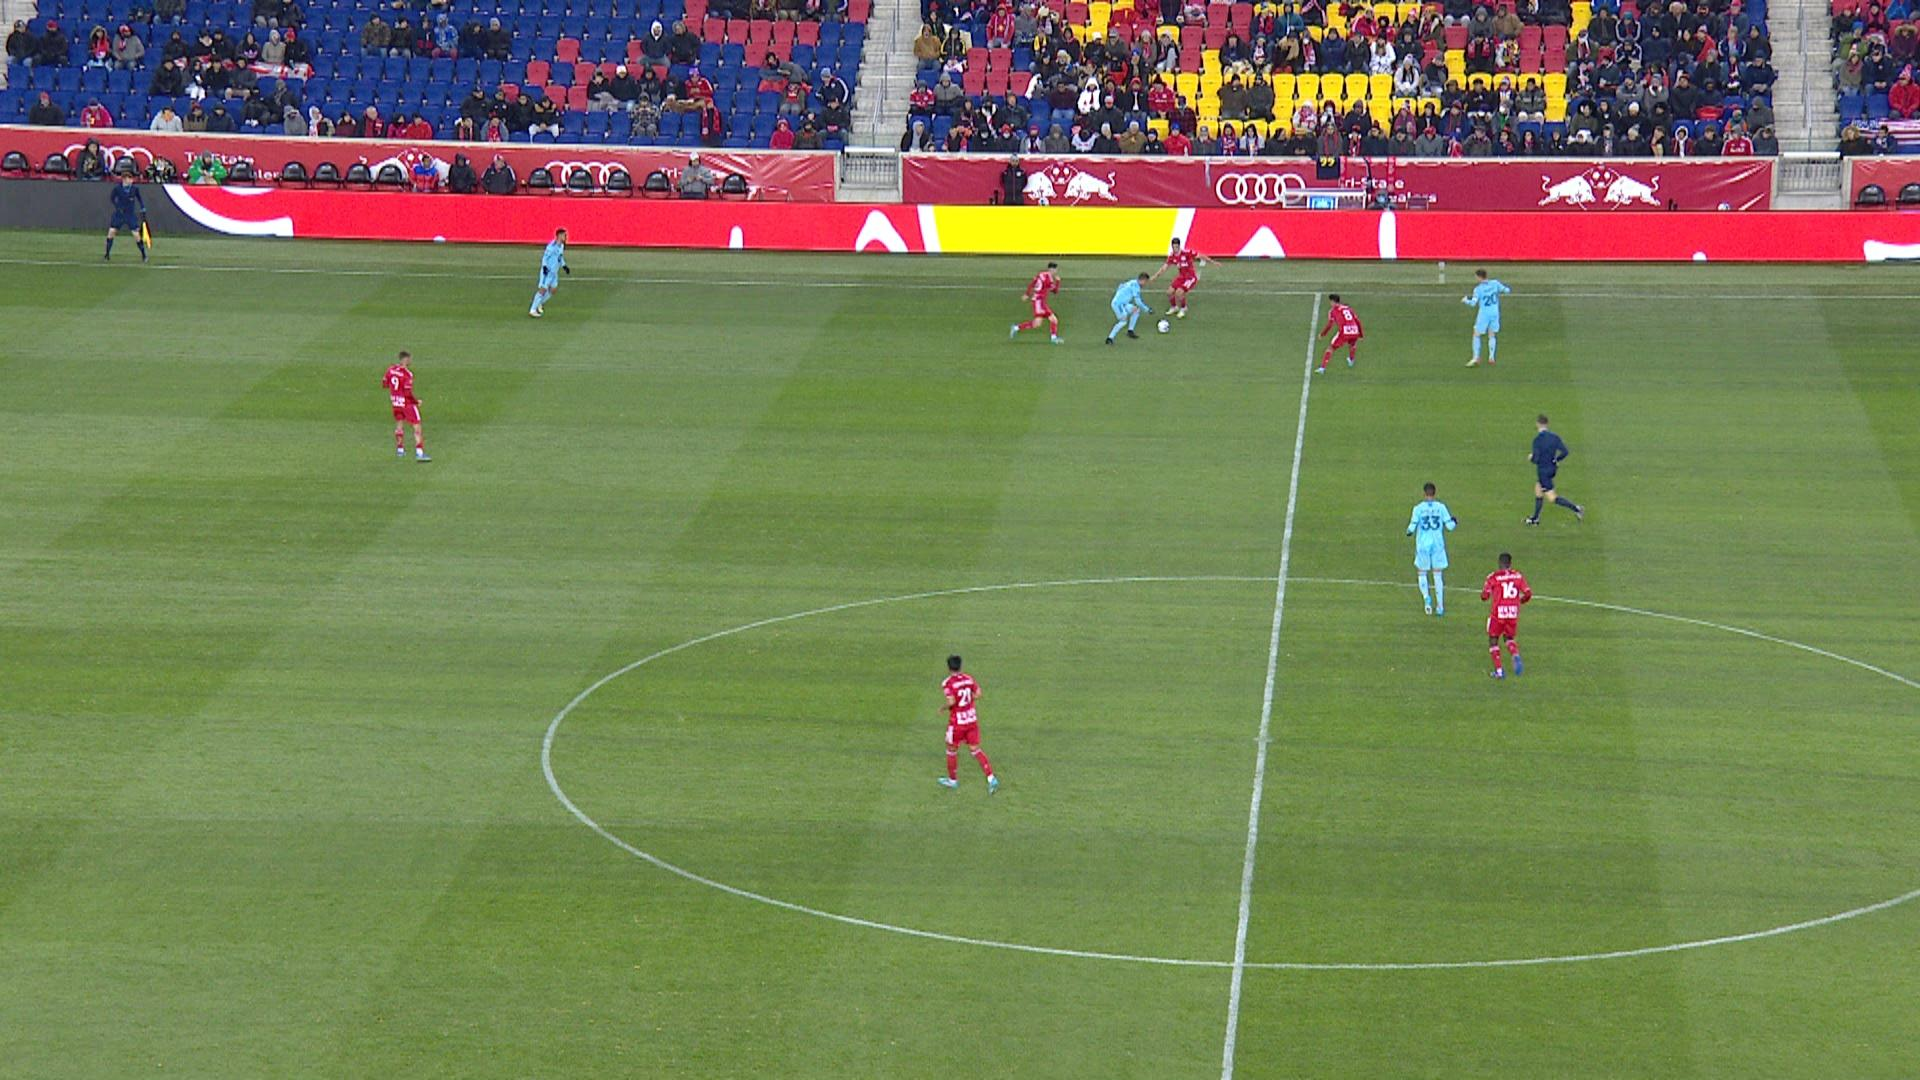football: (1156, 319, 1171, 335)
